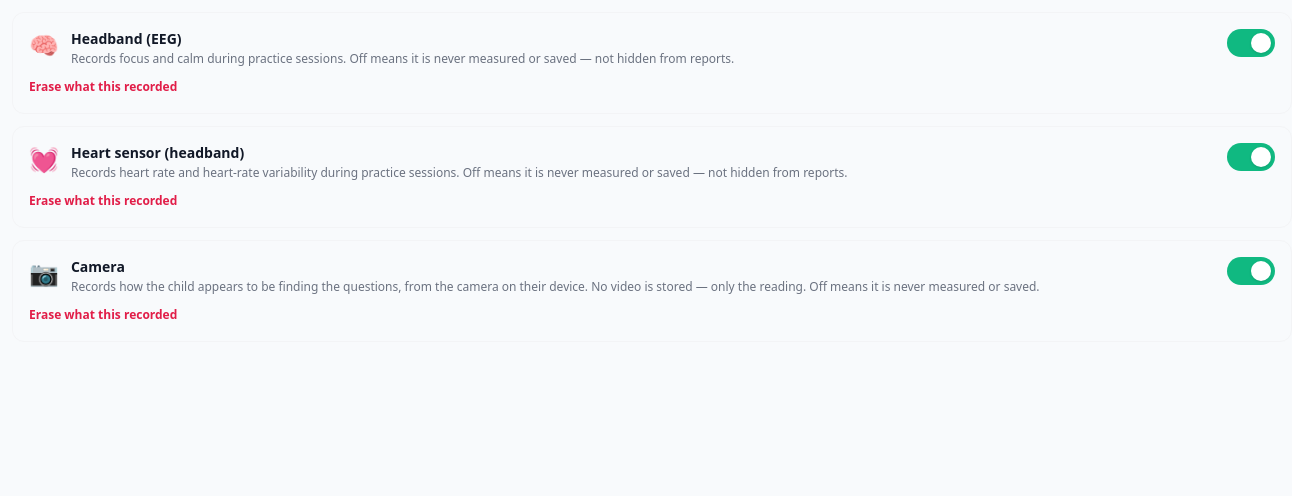
Test case: erasing stored readings › says the erasure happened when the reload after it fails
The width and height of the screenshot is (1292, 496).
Expected: the text "Camera" is shown, [71,257,125,276]
Click the 3rd button "Erase what this recorded": [103, 315] box [29,307,177,323]
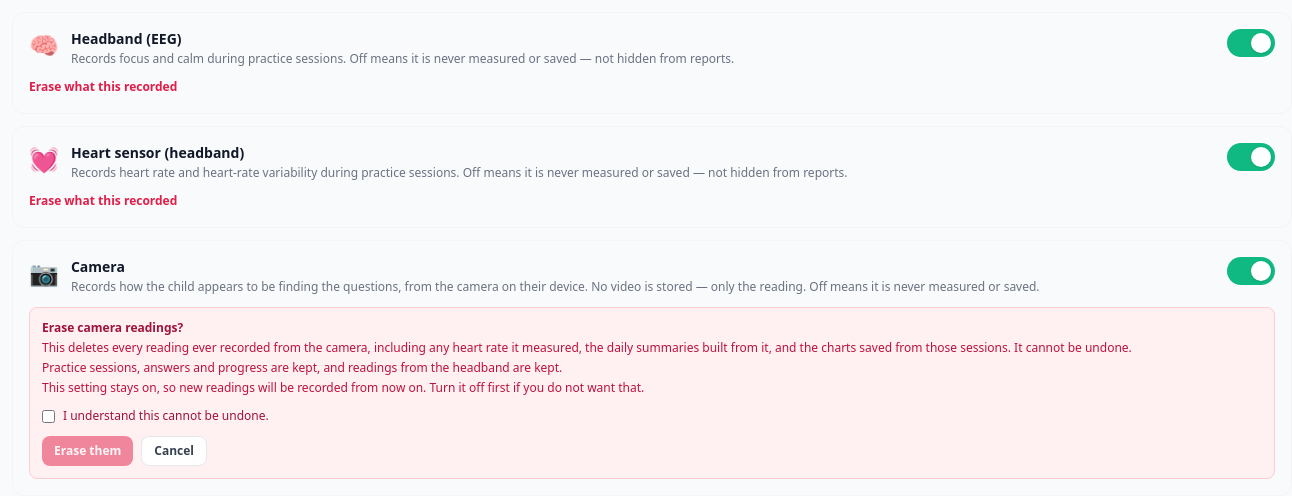
Click the checkbox: [48, 416] box [42,410,55,423]
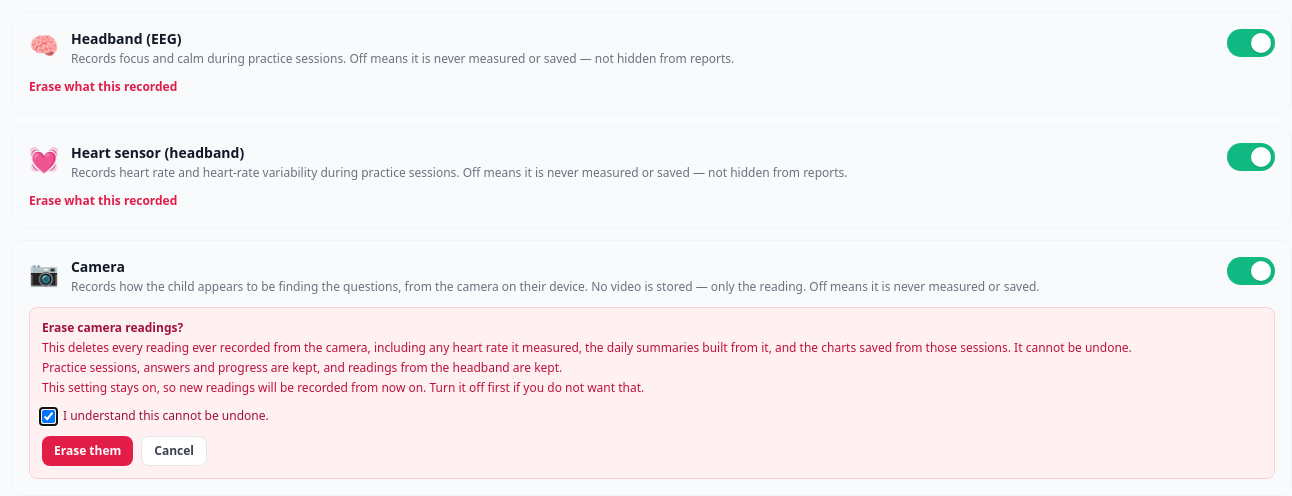
Click the button "Erase them": [88, 451] box [42,436,133,466]
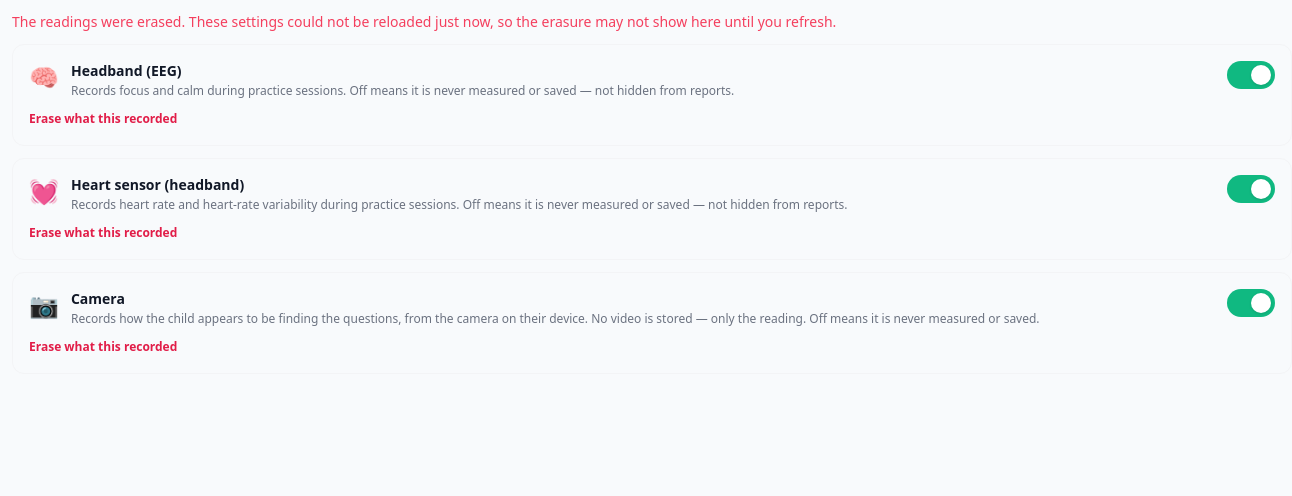
Expected: the number of switches is 3, [1227,61,1275,89]; [1227,175,1275,203]; [1227,289,1275,317]
Expected: the text "The readings were erased. These settings could not be reloaded" is shown, [12,12,836,31]
